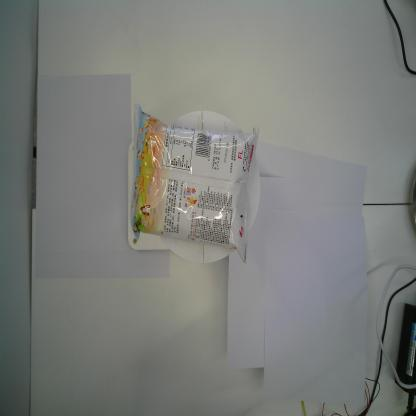Puffed Food: (126, 102, 260, 266)
